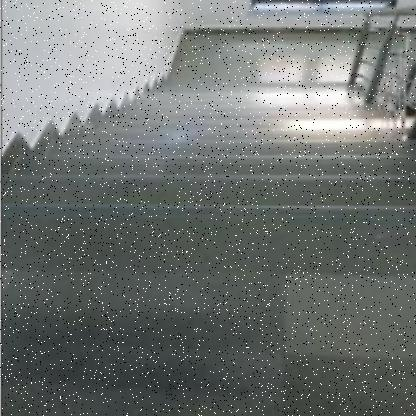stair_down: (36, 111, 366, 258)
